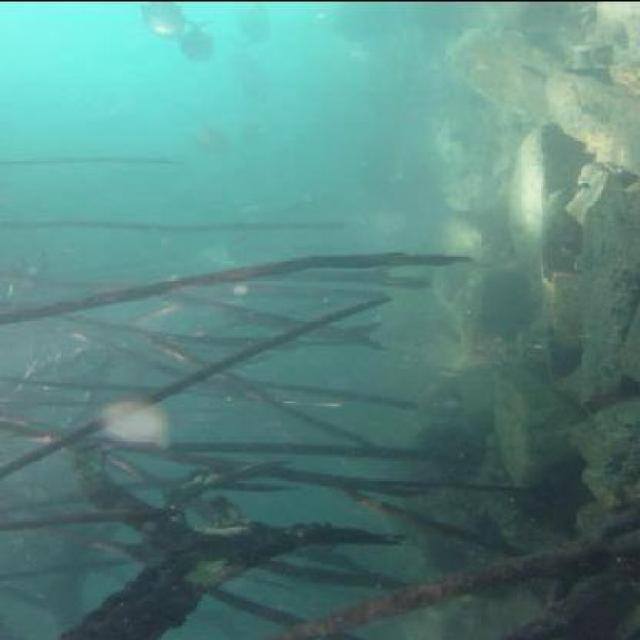Caranx_sexfasciatus_juvenile: (178, 93, 233, 156), (230, 42, 282, 106), (166, 3, 222, 62), (229, 0, 286, 38), (138, 0, 183, 38)
